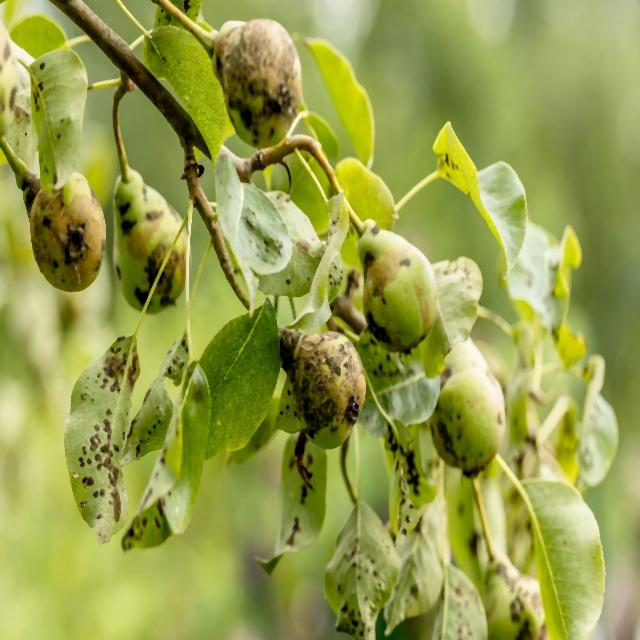leaf_spot: (50, 333, 148, 541), (299, 432, 397, 640), (12, 42, 94, 216)
